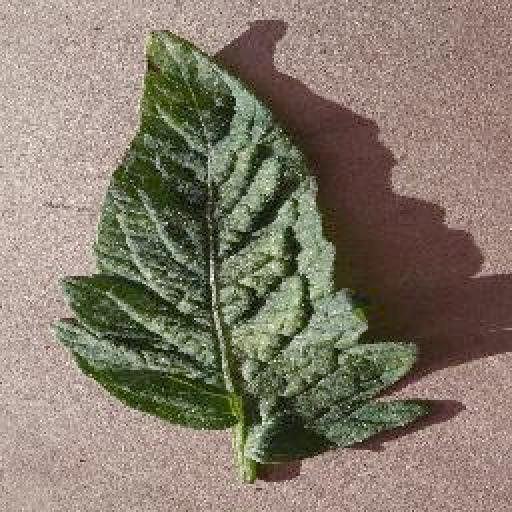disease_tomato: (55, 31, 428, 465)
